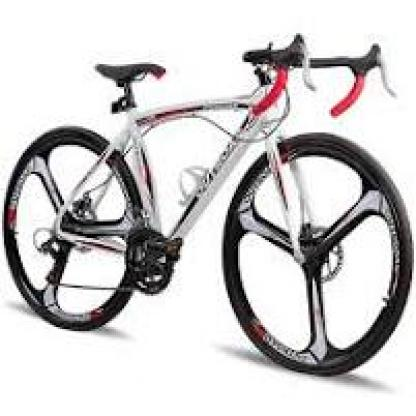Bike: (2, 33, 416, 377)
